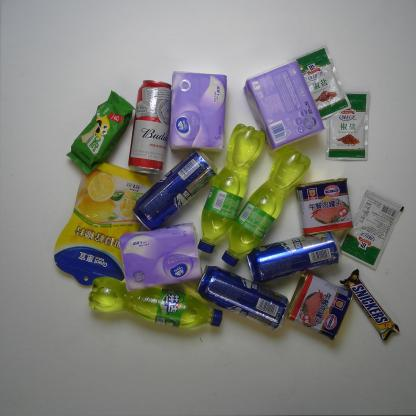Alcohol: (133, 150, 220, 231), (197, 264, 292, 329), (245, 232, 344, 284), (127, 78, 171, 176)
Canned Food: (282, 272, 353, 339), (295, 177, 354, 238)
Chocolate: (339, 268, 399, 341)
Dessert: (65, 88, 135, 178)
Dried Fruit: (53, 158, 153, 289)
Drink: (222, 144, 311, 268), (197, 121, 267, 255), (88, 272, 224, 332)
Seasoner: (338, 188, 405, 268), (294, 46, 352, 119), (322, 89, 370, 163)
Tissue: (241, 60, 325, 152), (118, 222, 204, 292), (169, 70, 226, 152)
